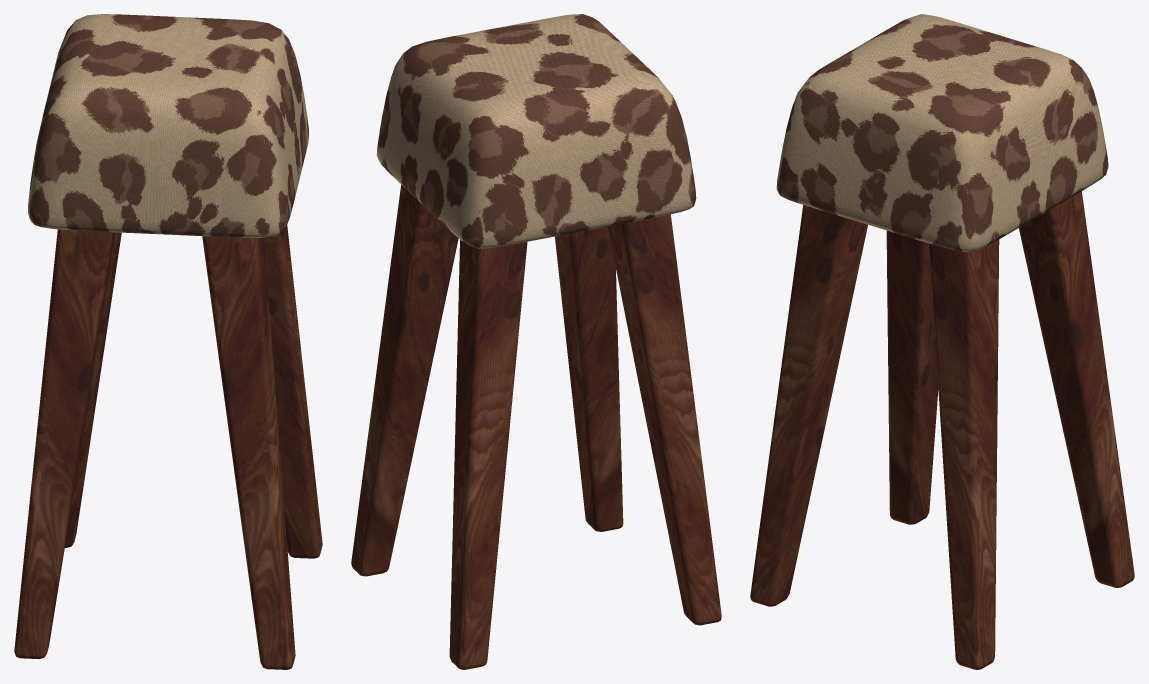
The model's file is leopard_chair_1.glb.
3 renders of one model, left to right at view 1: azimuth 30°, elevation 25°; view 2: azimuth 150°, elevation 25°; view 3: azimuth 270°, elevation 25°, orthographic. The views are drawn at different scales.
Parts seen in each view (by area): view 1: Chair, Plane.043; view 2: Plane.043, Chair; view 3: Plane.043, Chair.
Boxes of the visible parts, bbox=[...] form: Chair: bbox=[28, 14, 308, 237]; Plane.043: bbox=[14, 225, 322, 669]; Plane.043: bbox=[351, 184, 721, 669]; Chair: bbox=[376, 14, 696, 248]; Plane.043: bbox=[750, 191, 1134, 669]; Chair: bbox=[776, 14, 1108, 251].
Size of the model in its own units: 1.05 by 1.61 by 1.06.
2 materials, 2 textured.
